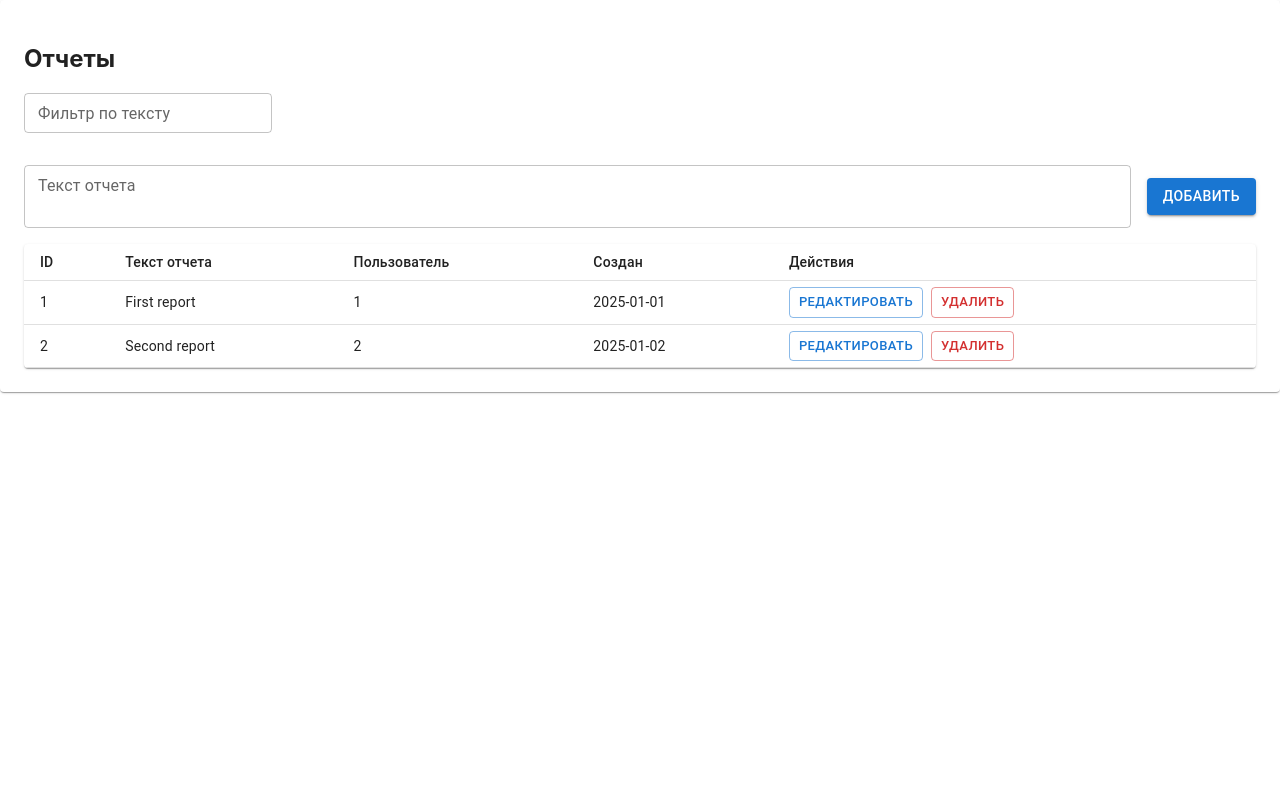
Test case: Reports page › shows error if fields are empty
Expected: the text "First report" is shown, [109,280,338,324]
Click the button "Добавить". click: x=1201, y=196
box: [1147,178,1256,215]
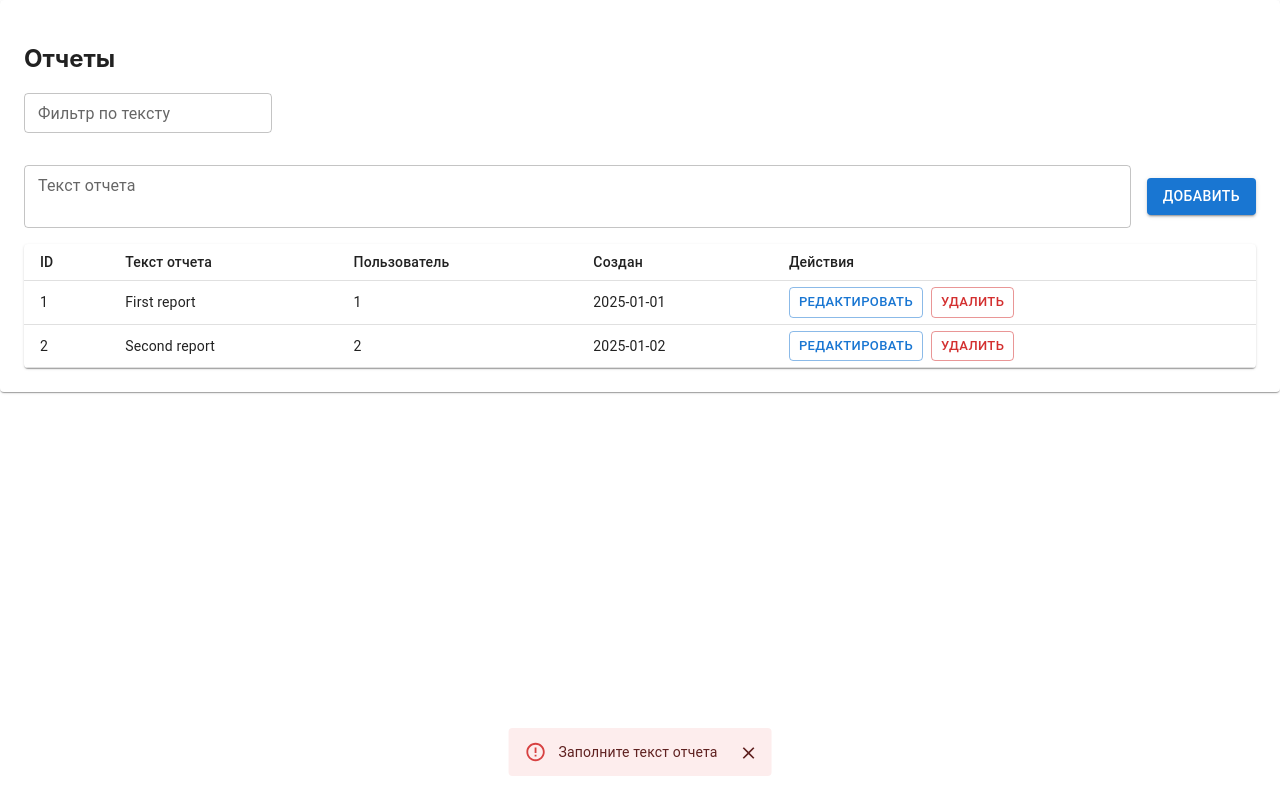
Expected: the text "Заполните текст отчета" is shown, [559,744,718,760]
